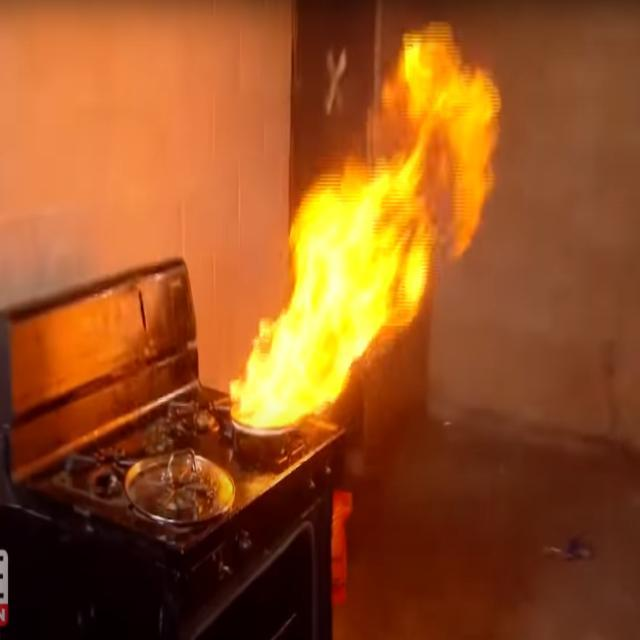Fire: (364, 16, 501, 312), (237, 176, 366, 426)
